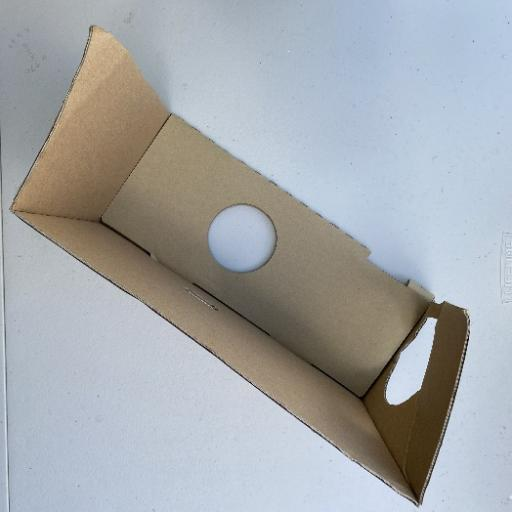Cardboard: (10, 23, 473, 507)
